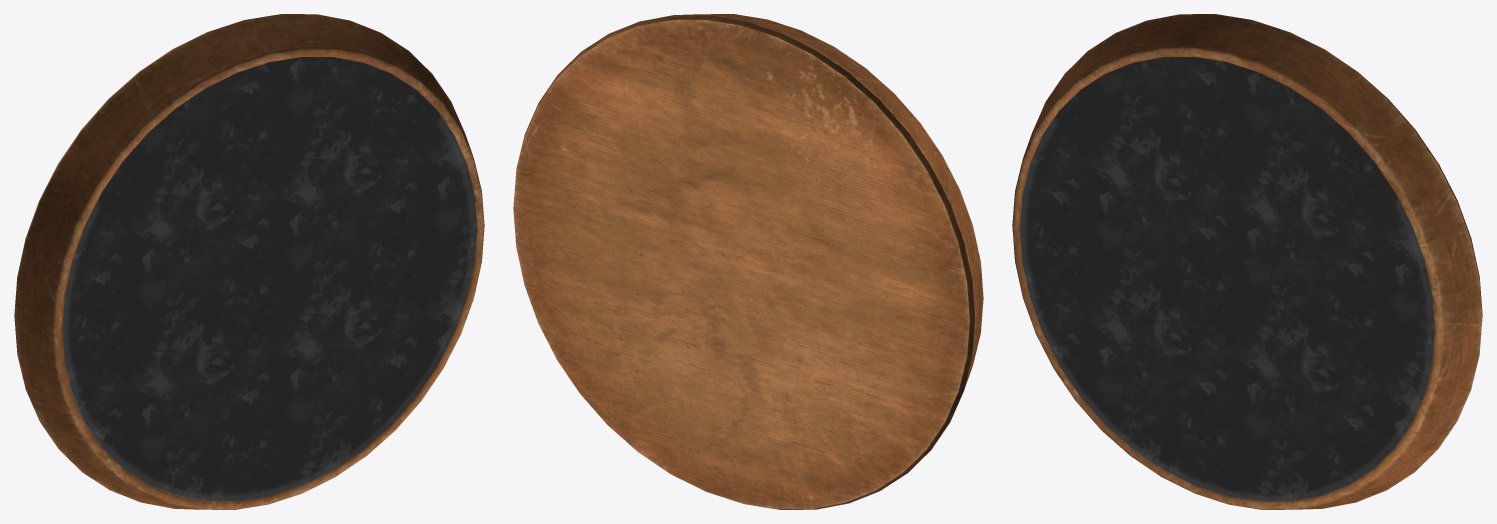
File: clock.obj
The picture shows the model from 3 angles, left to right: view 1: azimuth 30°, elevation 25°; view 2: azimuth 150°, elevation 25°; view 3: azimuth 330°, elevation 25°; orthographic projection.
Visible parts, largest first — view 1: glass, clock_main; view 2: clock_main; view 3: glass, clock_main.
Boxes of the visible parts, x1,y1,x2,y2 form: glass: (62,57,477,501); clock_main: (14,14,484,509); clock_main: (513,14,983,509); glass: (1019,57,1434,501); clock_main: (1012,14,1482,509).
Size of the model in its own units: 34.14 by 34.14 by 3.53.
2 materials, 2 textured.
